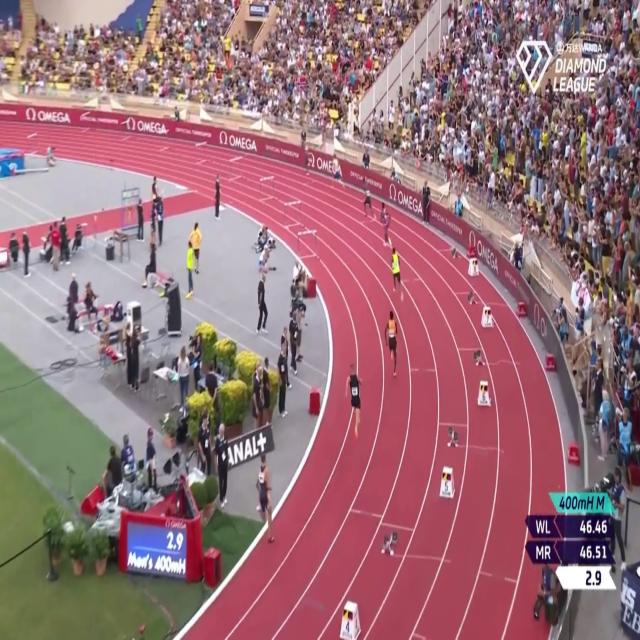athlete: (257, 454, 277, 546), (346, 358, 365, 441), (384, 311, 400, 382), (390, 248, 406, 304), (360, 175, 377, 224), (331, 150, 345, 200), (300, 138, 310, 188), (380, 202, 390, 251)
hurdle: (298, 228, 318, 265), (284, 192, 303, 230), (255, 172, 276, 206), (225, 150, 243, 185), (25, 129, 43, 159), (192, 140, 210, 168), (116, 116, 132, 146), (76, 107, 92, 135), (156, 128, 170, 155)
